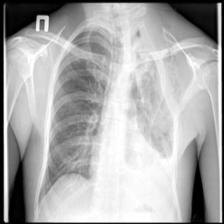tuberculosis: (32, 18, 182, 222)
